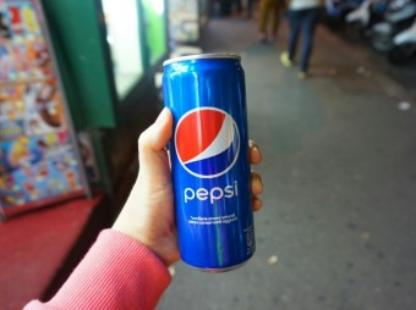Can: (160, 52, 258, 274)
